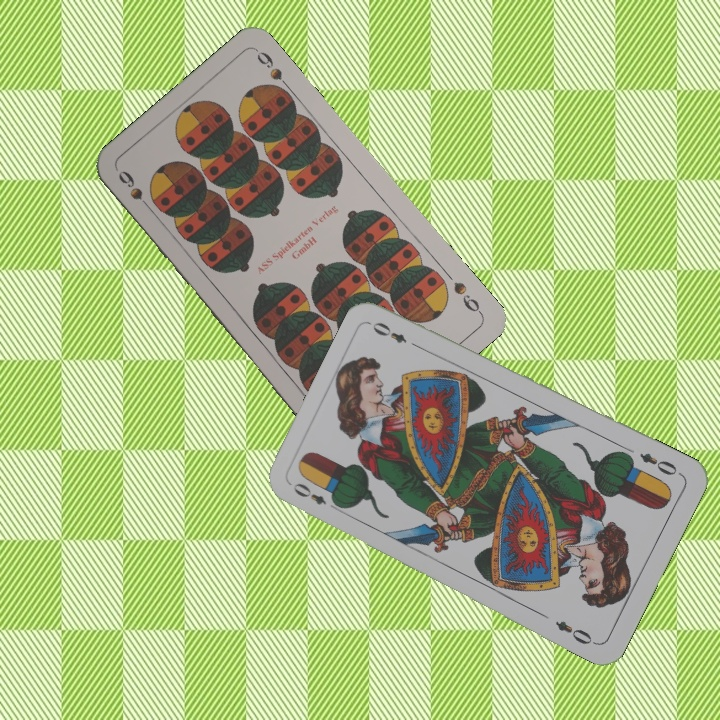EO: (289, 479, 343, 513), (635, 448, 680, 479)
S9: (114, 166, 157, 216), (449, 277, 485, 317)
